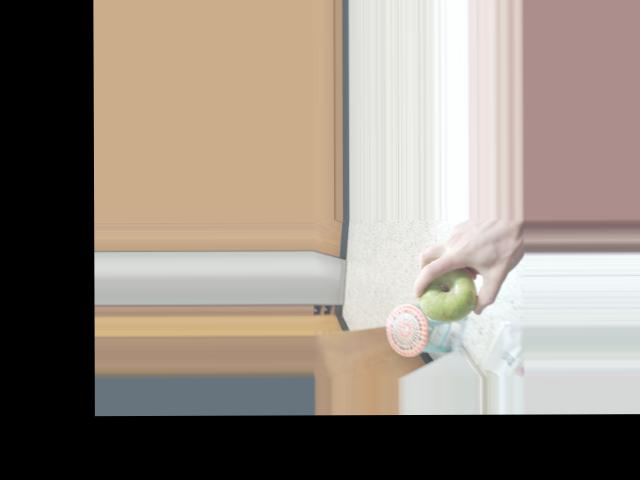apple: (415, 262, 480, 323)
